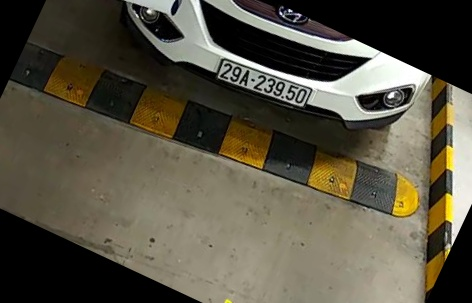plate: (210, 53, 317, 117)
